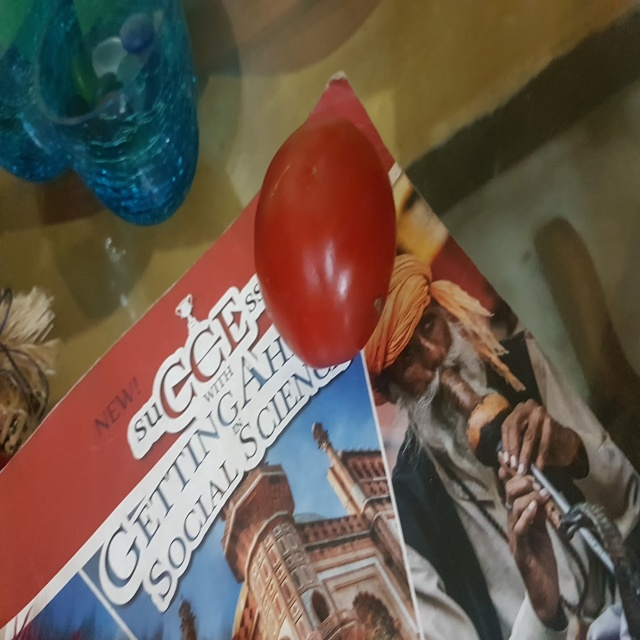tomato: (250, 123, 413, 371)
